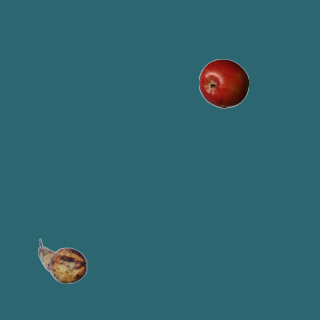Apple Braeburn: (198, 58, 248, 108)
Pear Abate: (37, 236, 87, 286)
